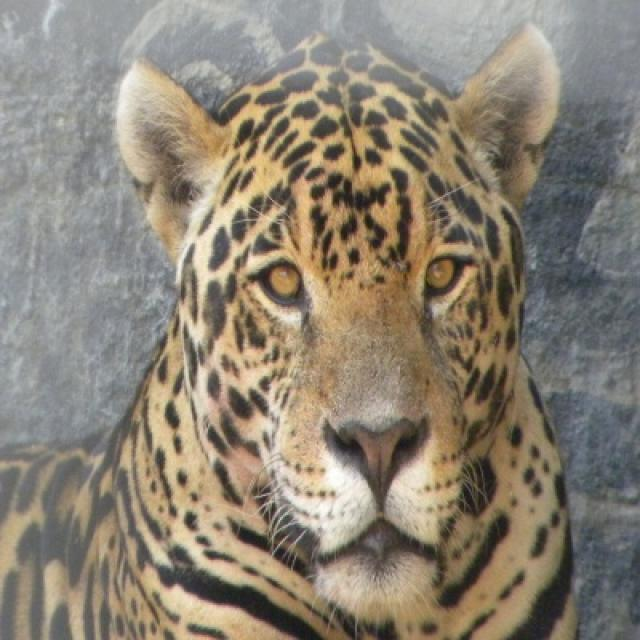Jaguar: (0, 22, 578, 638)
